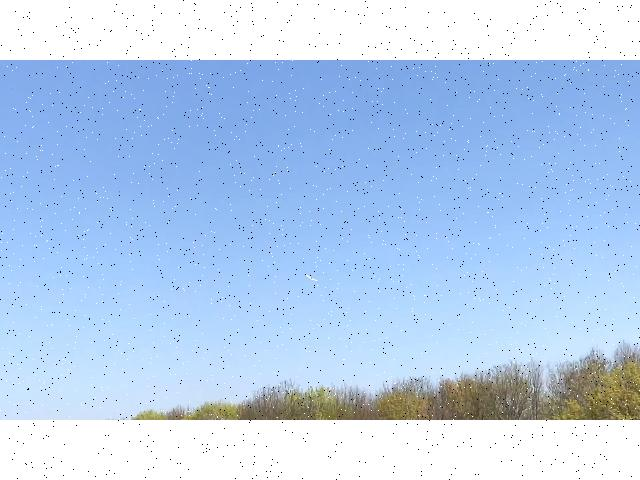Anti-Drone: (290, 268, 328, 289)
